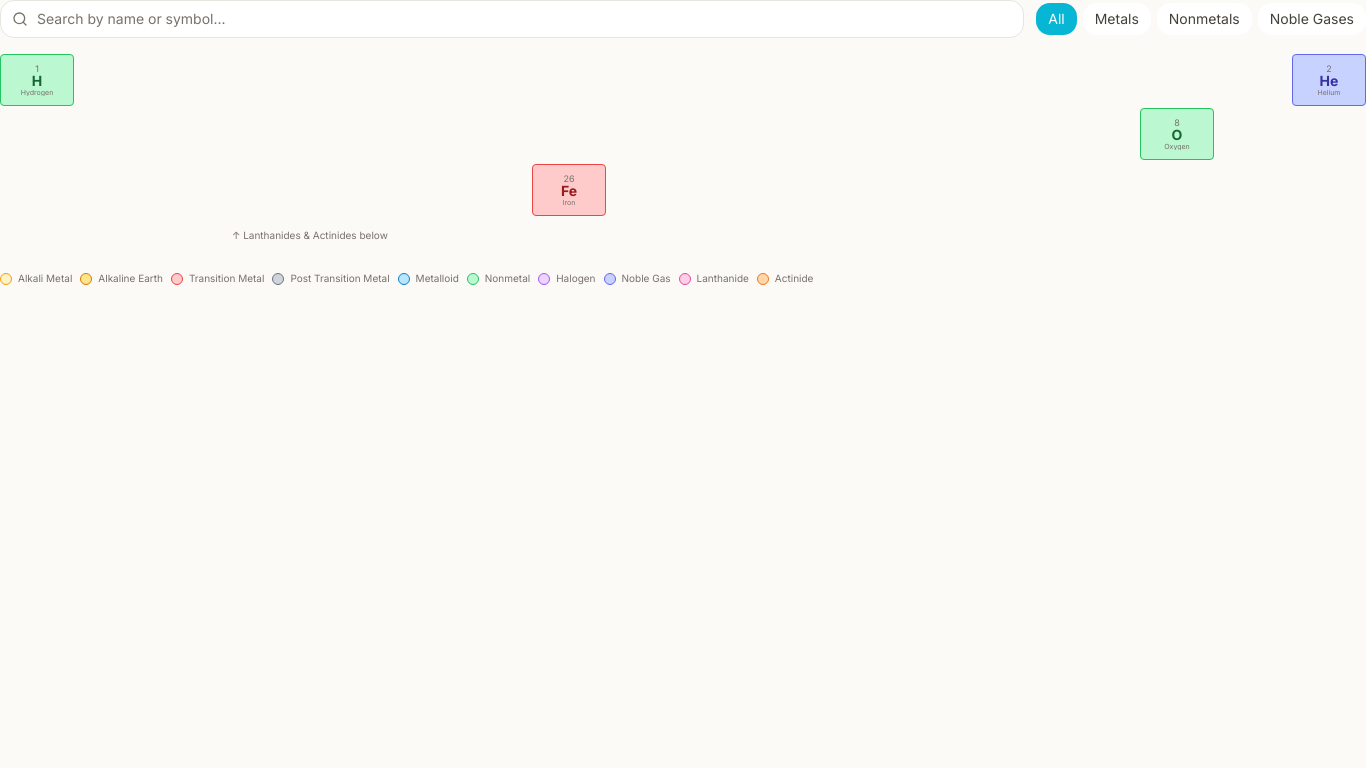
PeriodicTable › opens the detail panel when clicking an element
Click the button "1 H Hydrogen" at [37, 80], box left=0, top=54, right=74, bottom=106
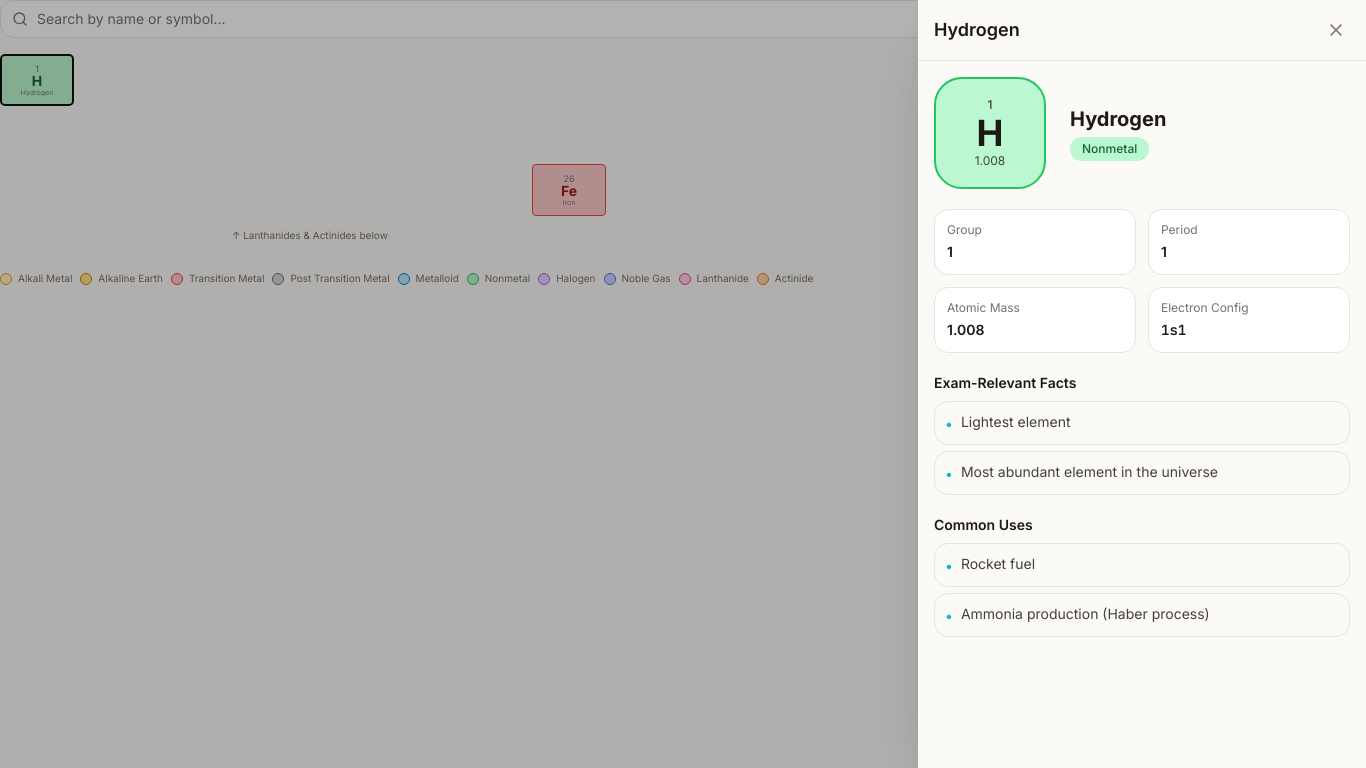
Result: the dialog is shown at left=918, top=0, right=1365, bottom=767
Result: the text "1s1" is shown at left=1161, top=321, right=1186, bottom=339
